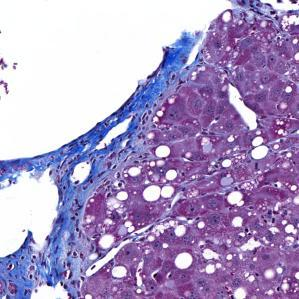fibrosis: (49, 140, 102, 272), (115, 76, 173, 154)
